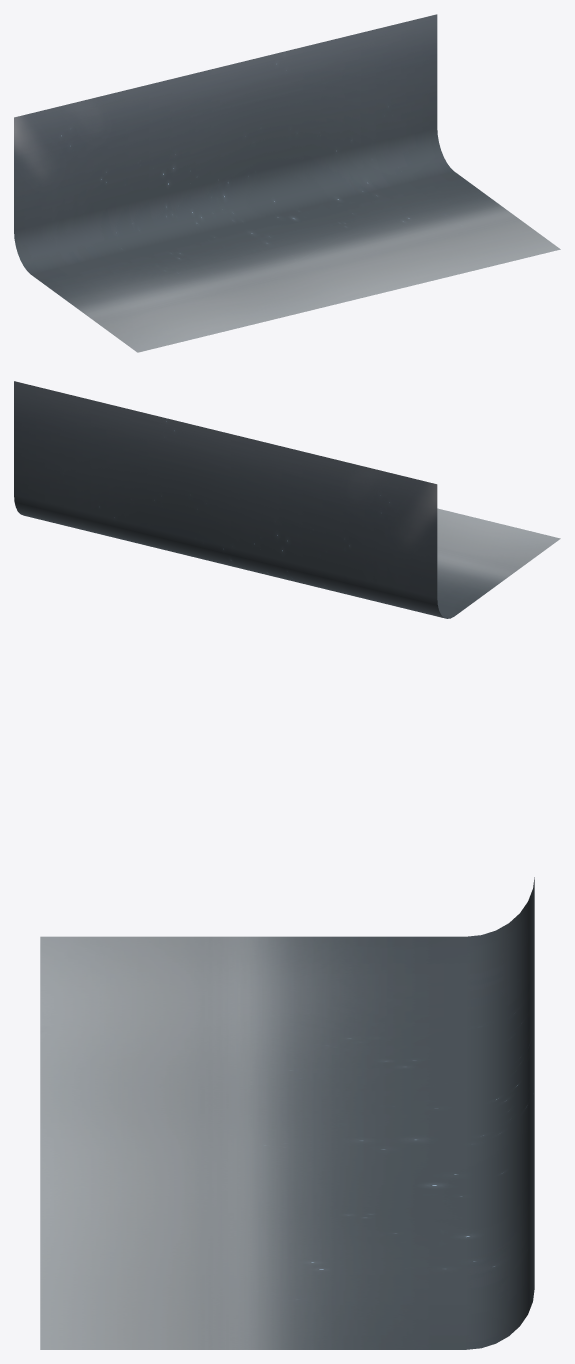
File: UiSceneFormation.fbx
3 views of the same model, one above another, from view 1: azimuth 30°, elevation 25°; view 2: azimuth 150°, elevation 25°; view 3: azimuth 270°, elevation 25° (orthographic). The views are drawn at different scales.
Visible parts, largest first — view 1: UiSceneFormation; view 2: UiSceneFormation; view 3: UiSceneFormation.
Part boxes in pixels (x1,y1,x2,y2): UiSceneFormation: (14,14,560,352); UiSceneFormation: (14,381,560,618); UiSceneFormation: (40,877,534,1349).
Bounding box in the file's own units: 1120 × 366 × 566.
